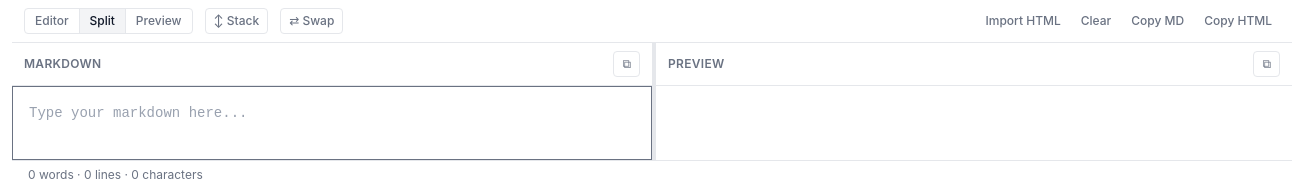
MarkdownPreview › pop-out › does not hide a pane just from clicking pop-out when the popup is blocked
Step 1. Click the button named "Open Preview in a new window" → (1267, 64), box [1253,51,1280,77]
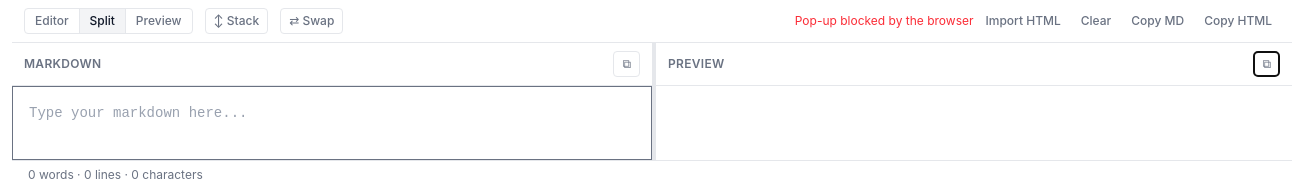
Result: the text "Pop-up blocked by the browser" is shown at [795,13,974,29]
